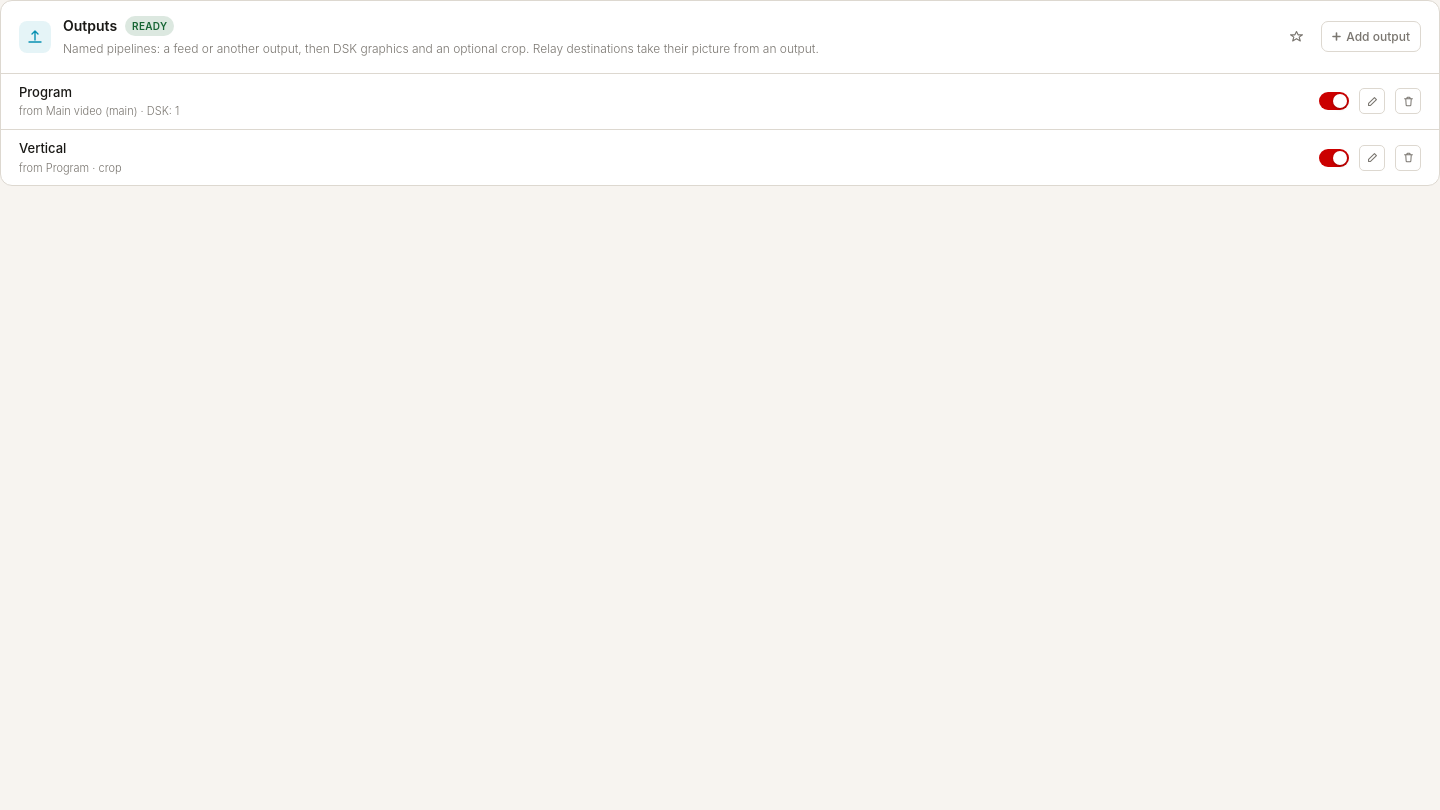
Scenario: OutputsSection › shows the server reason when a save is refused
The image size is (1440, 810).
Expected: the text "Program" is shown, [19,84,72,100]
Click the button "Add output" at (1371, 37), box [1321,21,1421,52]
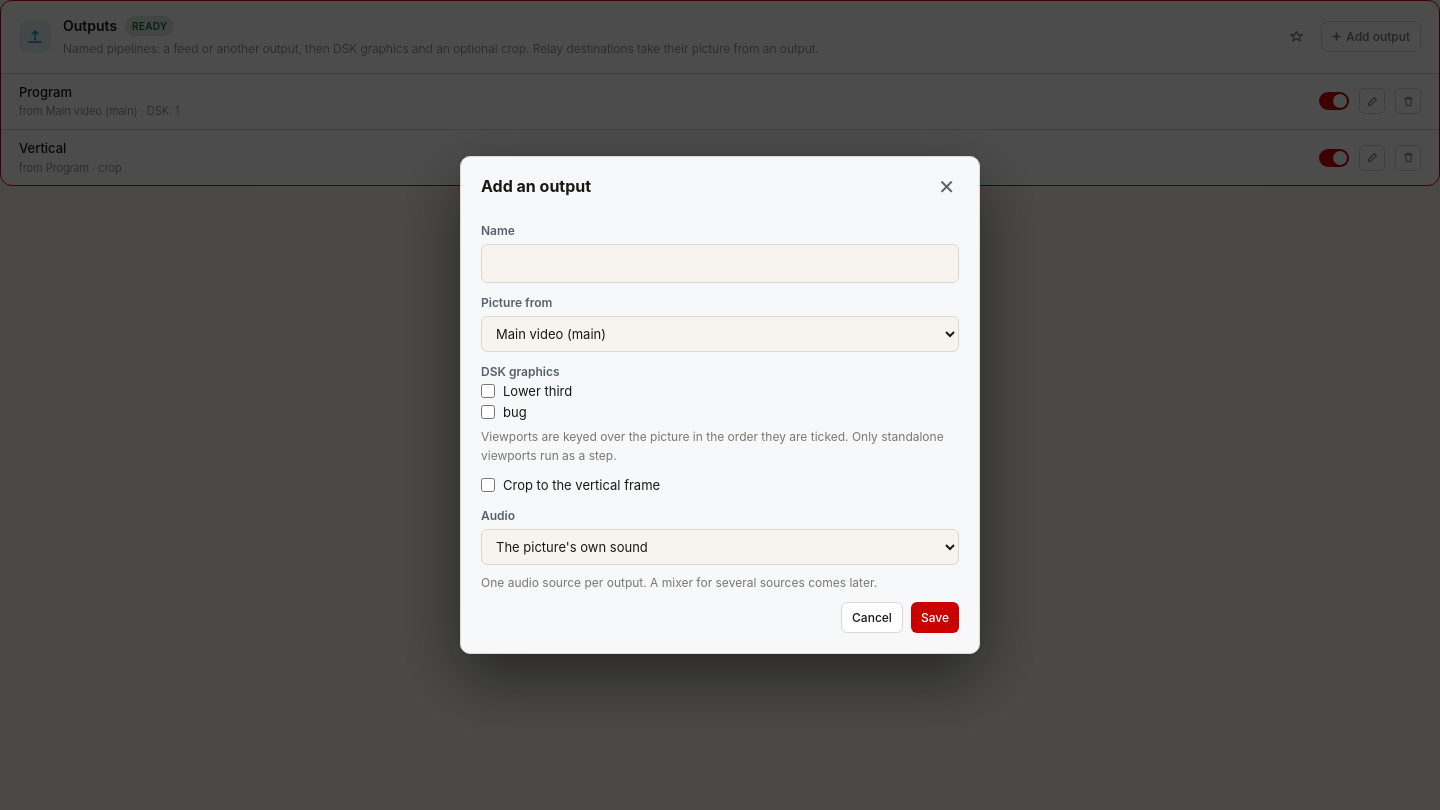
Type "Stage" into the field labelled "Name" at (720, 263), box [481,244,959,283]
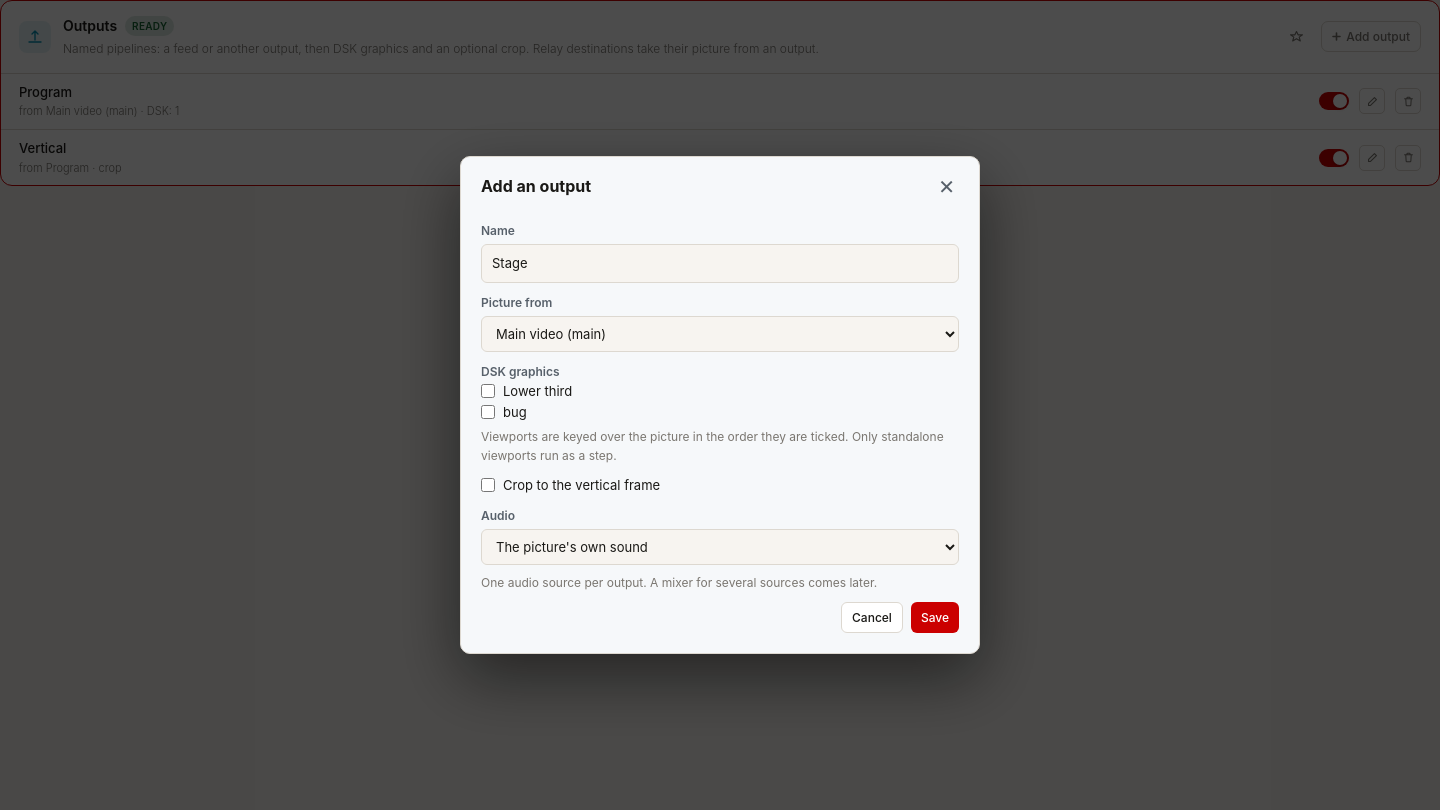
Click the button "Save" at (935, 618), box [911,602,959,633]
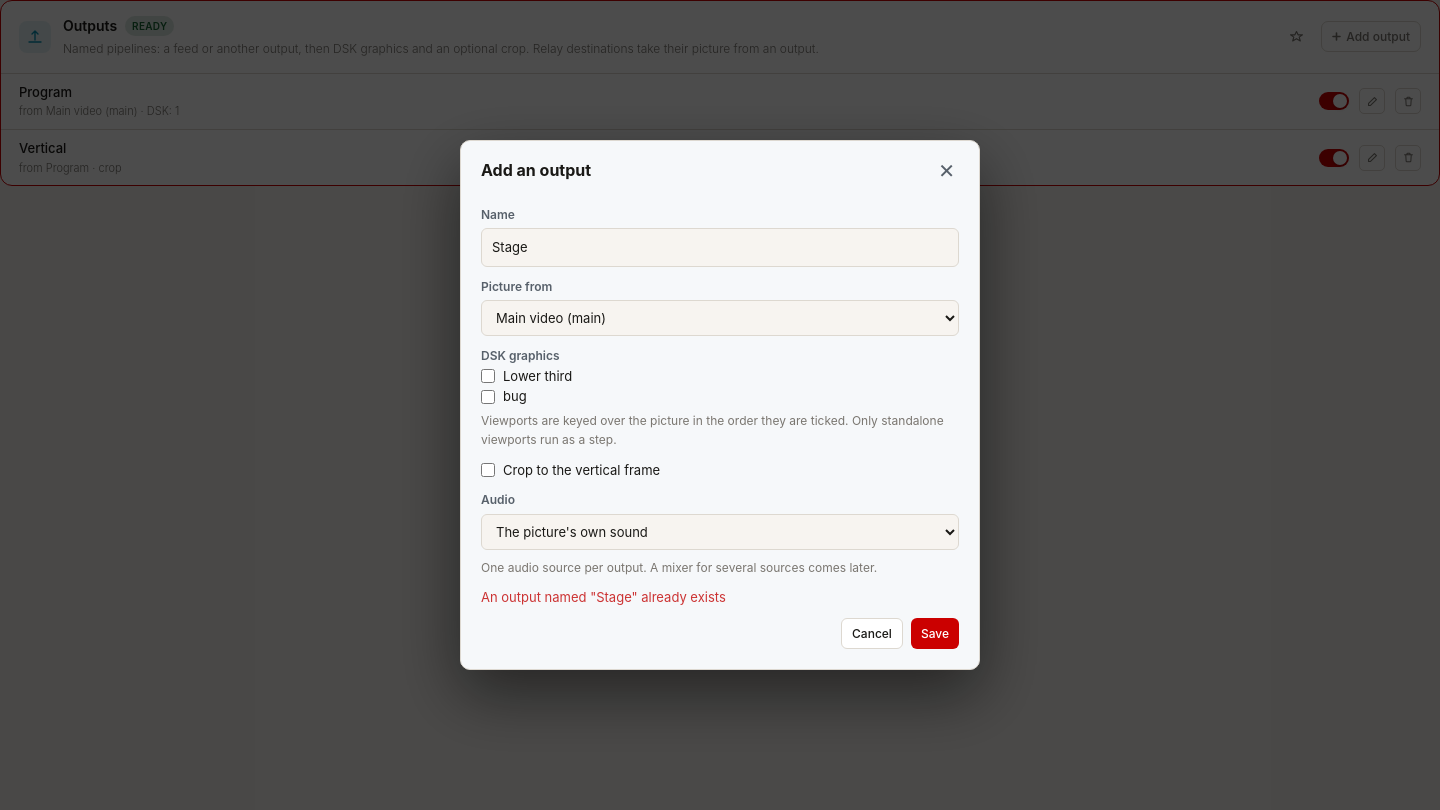
Expected: the text "An output named \"Stage\" already exists" is shown, [481,589,726,605]
